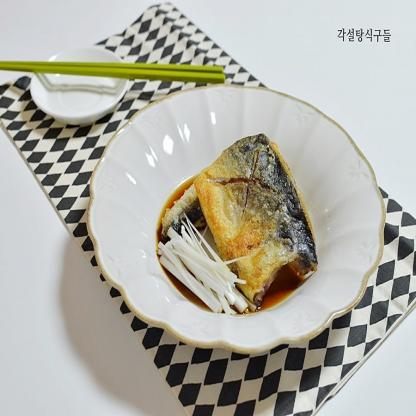Peixe: (199, 110, 330, 302)
